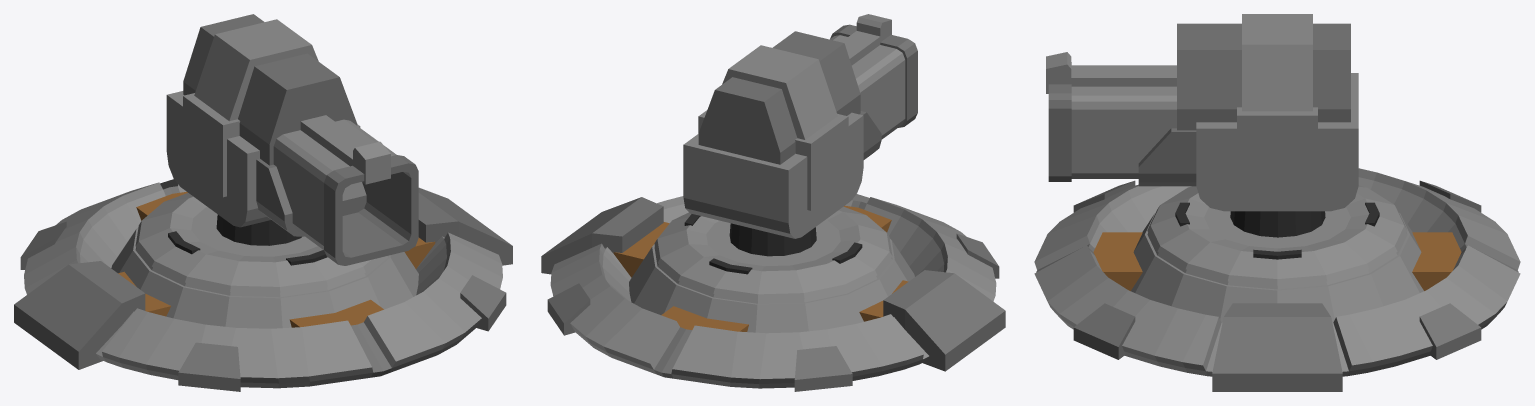
File: turret_cannon.glb
The picture shows the model from 3 angles, left to right: view 1: azimuth 30°, elevation 25°; view 2: azimuth 150°, elevation 25°; view 3: azimuth 270°, elevation 25°; orthographic projection. The views are drawn at different scales.
Visible parts, largest first — view 1: Turret_Cannon_Base, Turret_Cannon_Top; view 2: Turret_Cannon_Base, Turret_Cannon_Top; view 3: Turret_Cannon_Base, Turret_Cannon_Top.
Boxes of the visible parts, x1=… form: Turret_Cannon_Base: x1=14, y1=179, x2=512, y2=391; Turret_Cannon_Top: x1=166, y1=14, x2=418, y2=265; Turret_Cannon_Base: x1=541, y1=194, x2=1005, y2=391; Turret_Cannon_Top: x1=683, y1=14, x2=917, y2=256; Turret_Cannon_Base: x1=1034, y1=168, x2=1520, y2=391; Turret_Cannon_Top: x1=1046, y1=14, x2=1358, y2=237.
Size of the model in its own units: 1.16 by 0.6472 by 1.11.
